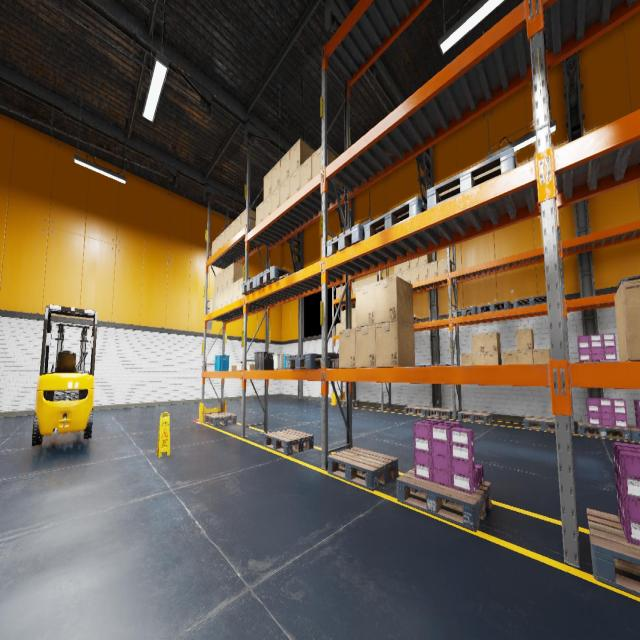box: (614, 279, 640, 362), (374, 276, 414, 324), (375, 321, 415, 366), (312, 146, 342, 188), (290, 138, 315, 175), (356, 282, 375, 327), (356, 325, 376, 367), (339, 328, 356, 368), (228, 262, 249, 286), (516, 328, 534, 350), (300, 156, 312, 188), (289, 166, 300, 198), (280, 150, 290, 184), (239, 277, 254, 299), (240, 209, 256, 229), (484, 332, 500, 352), (271, 160, 280, 192), (533, 348, 550, 364), (437, 257, 452, 275), (280, 176, 289, 205), (271, 185, 280, 213), (264, 169, 272, 200), (517, 349, 533, 364), (472, 333, 484, 353), (263, 193, 271, 219), (503, 350, 517, 364), (485, 352, 501, 364), (418, 253, 432, 266), (256, 201, 263, 226), (428, 261, 438, 278), (418, 264, 428, 280), (472, 353, 485, 365), (461, 353, 473, 365), (410, 266, 419, 282), (232, 280, 238, 302), (218, 270, 224, 292), (235, 214, 241, 235), (227, 283, 233, 304), (222, 286, 228, 306), (224, 225, 230, 244), (223, 266, 228, 288), (370, 274, 382, 283), (214, 273, 219, 294), (230, 220, 235, 240), (402, 270, 410, 282), (213, 292, 218, 311), (220, 230, 225, 248), (209, 294, 214, 312), (218, 289, 222, 309), (410, 258, 418, 268), (352, 281, 358, 294), (394, 263, 401, 274), (238, 364, 248, 371), (402, 261, 409, 271), (216, 235, 220, 252), (336, 286, 341, 299), (212, 239, 216, 255), (336, 323, 341, 335), (246, 364, 255, 370), (358, 278, 364, 287), (352, 308, 356, 320), (341, 310, 345, 322), (364, 277, 370, 285), (394, 272, 402, 278), (342, 285, 346, 296), (229, 365, 236, 370), (352, 320, 356, 328), (342, 322, 346, 330), (386, 274, 394, 278), (351, 283, 352, 294), (237, 364, 238, 370)
forklift: (32, 305, 97, 445)
pallets: (396, 468, 492, 531), (426, 148, 518, 209), (586, 508, 640, 598), (328, 446, 398, 491), (364, 196, 427, 239), (264, 429, 313, 455), (326, 224, 364, 257), (578, 421, 632, 441), (286, 353, 339, 369), (257, 266, 293, 288), (241, 276, 268, 295), (477, 301, 513, 314), (524, 417, 555, 432), (458, 411, 493, 424), (513, 295, 547, 308), (204, 413, 237, 426), (426, 408, 456, 419), (617, 276, 640, 289), (404, 406, 432, 416), (453, 306, 477, 317), (628, 426, 640, 442), (336, 399, 358, 406), (413, 316, 422, 323)
